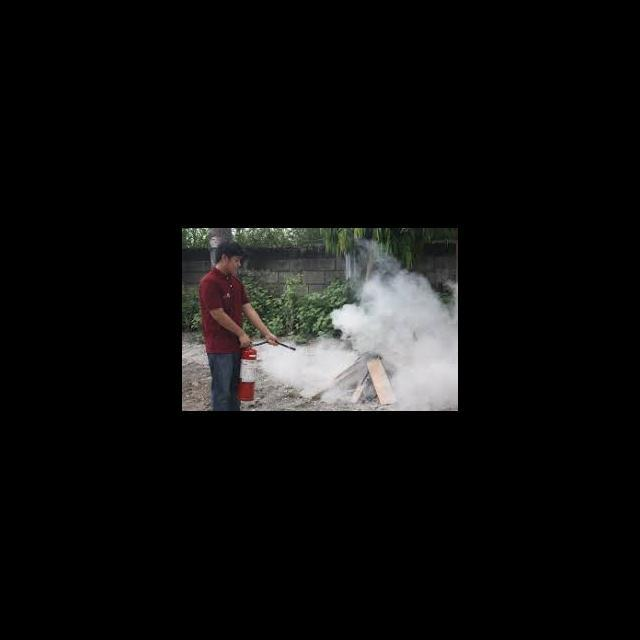Smoke: (334, 284, 458, 351), (395, 350, 458, 410), (296, 347, 336, 396), (273, 354, 294, 382)
